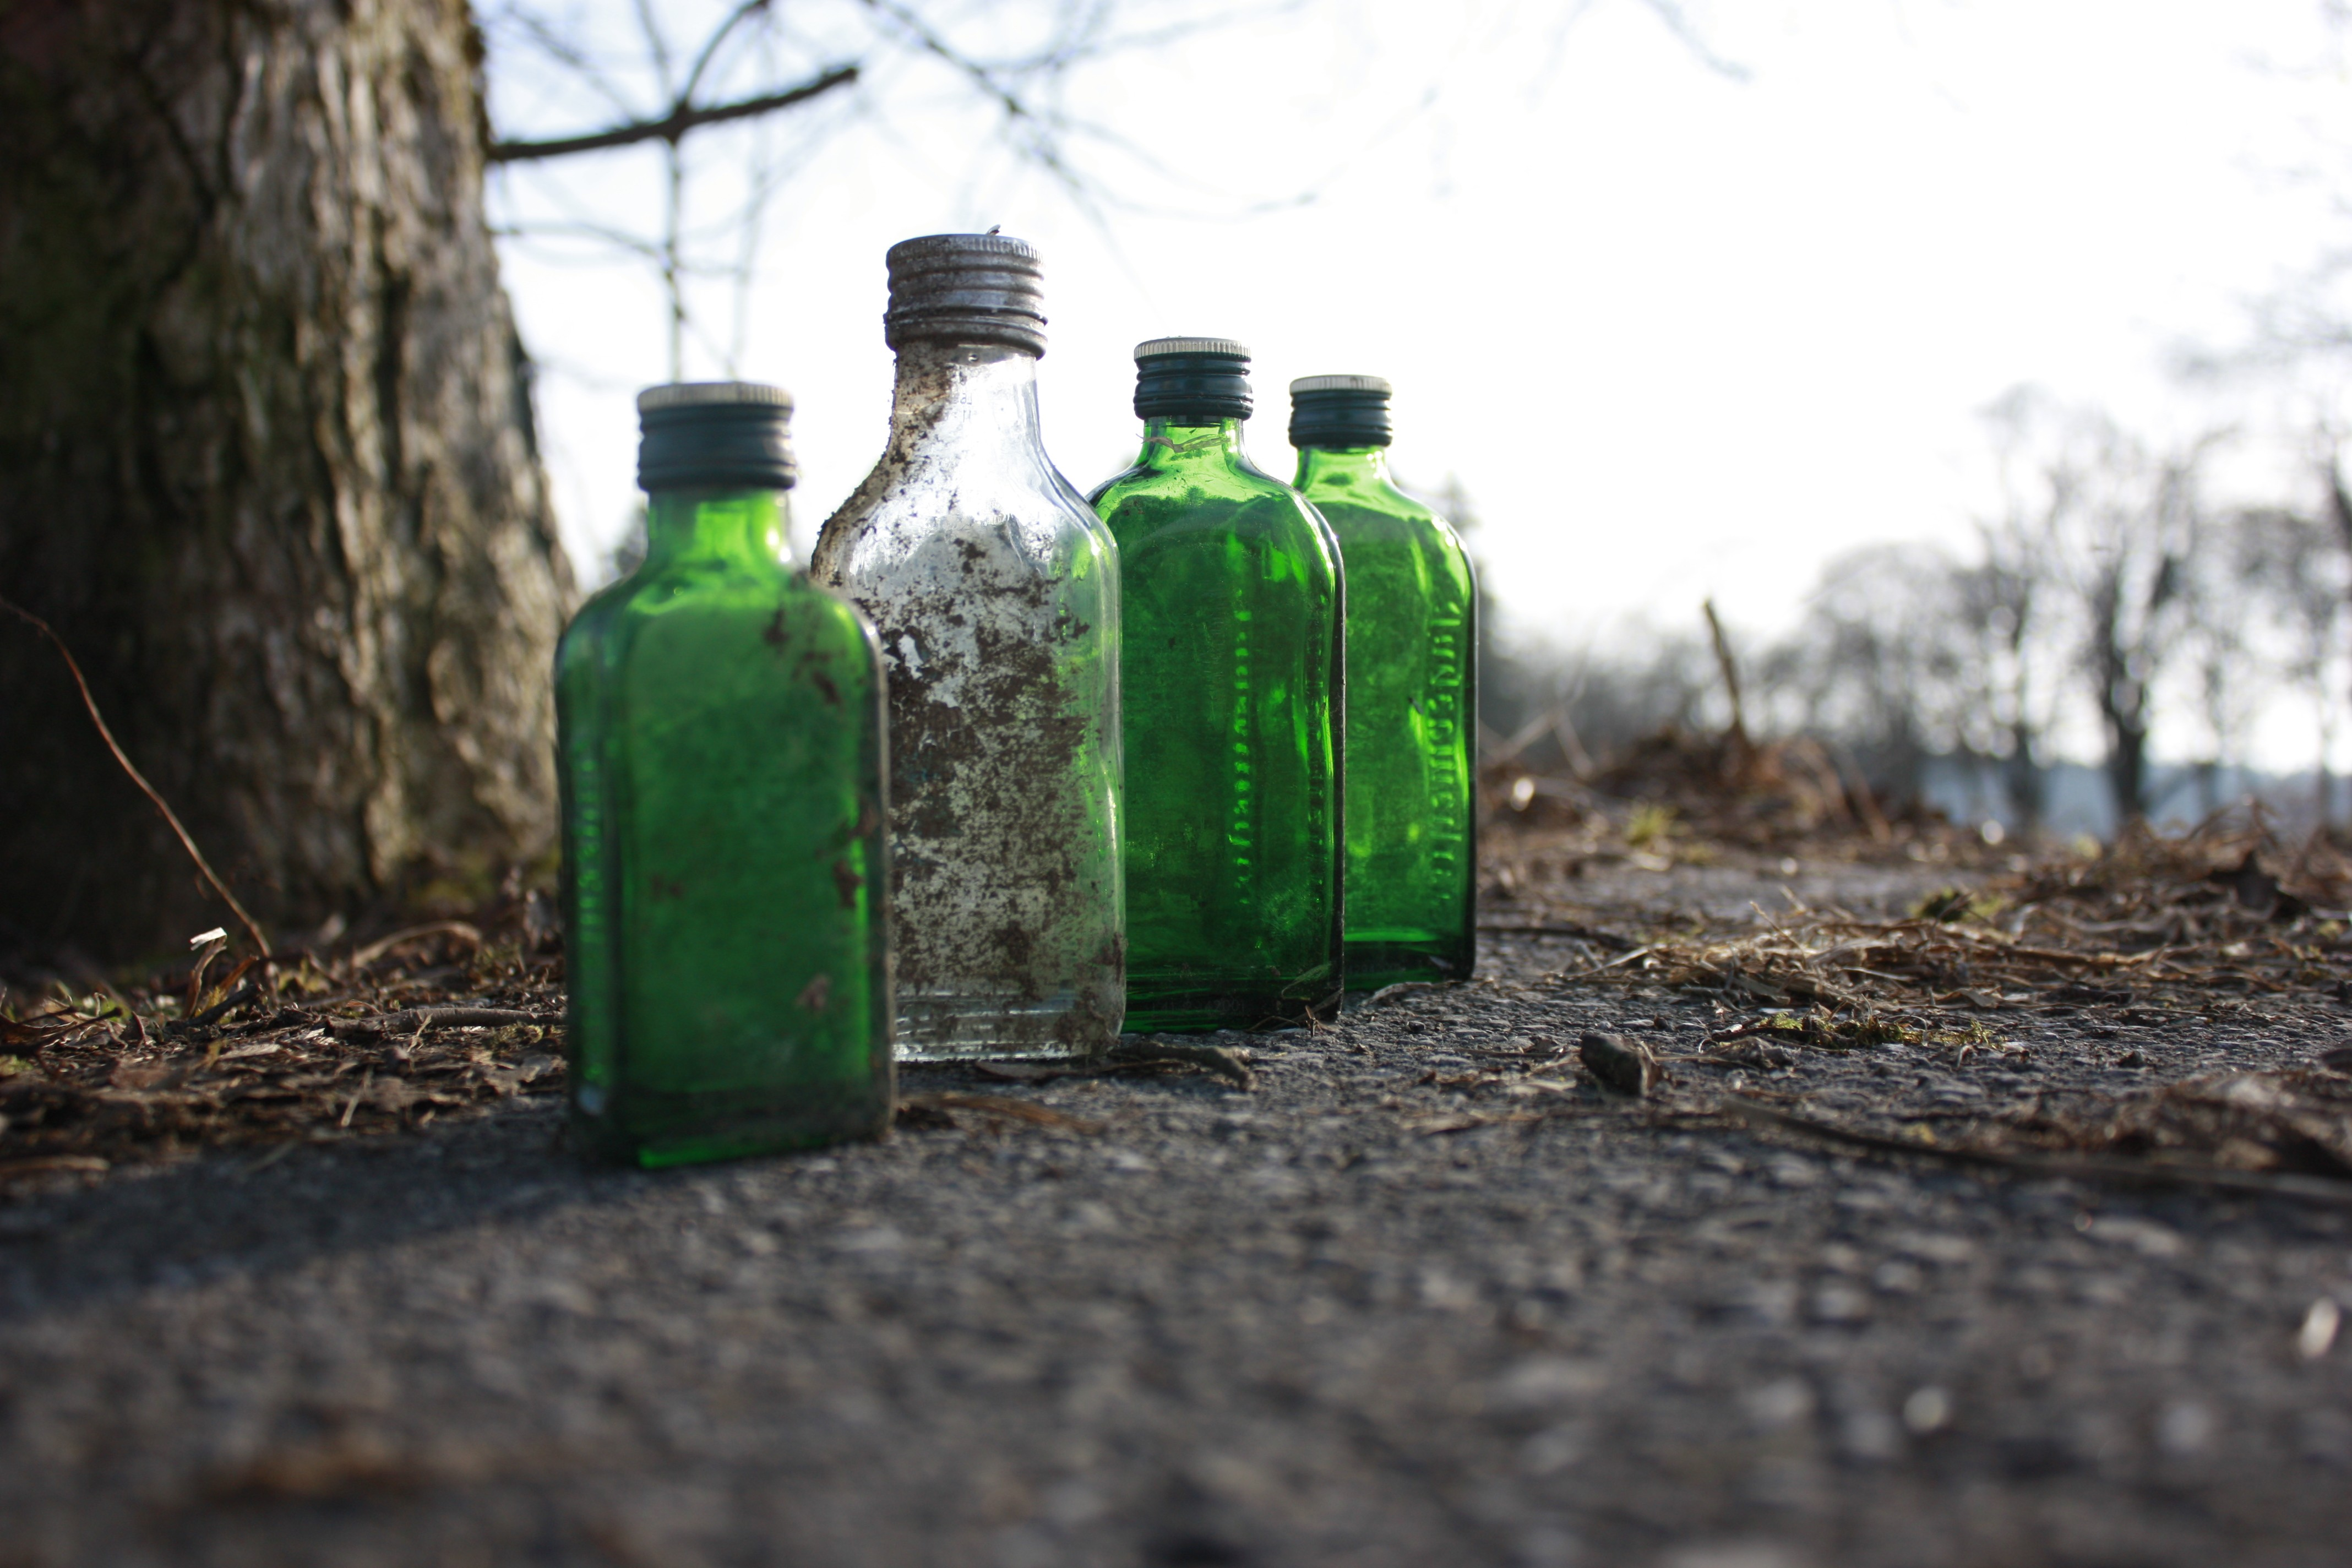bottle: (551, 385, 898, 1164), (819, 238, 1120, 1073), (1106, 341, 1339, 1038), (1279, 376, 1472, 987)
